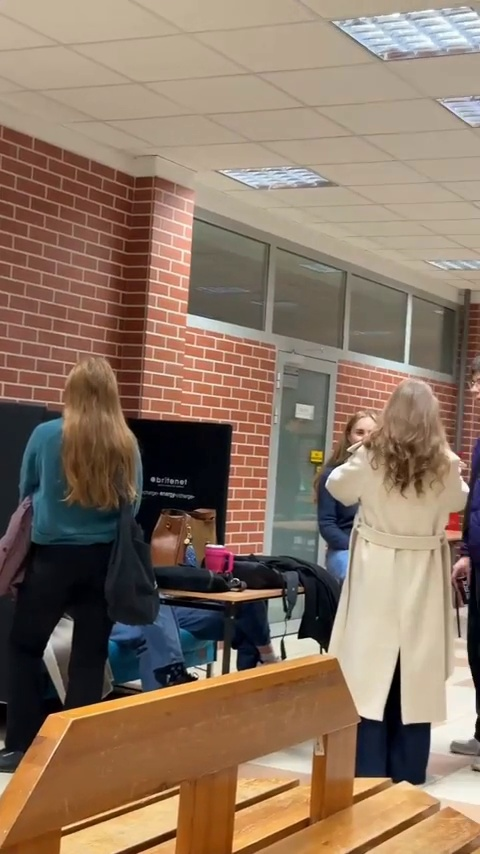no vest: (10, 356, 157, 697), (325, 374, 461, 730)
